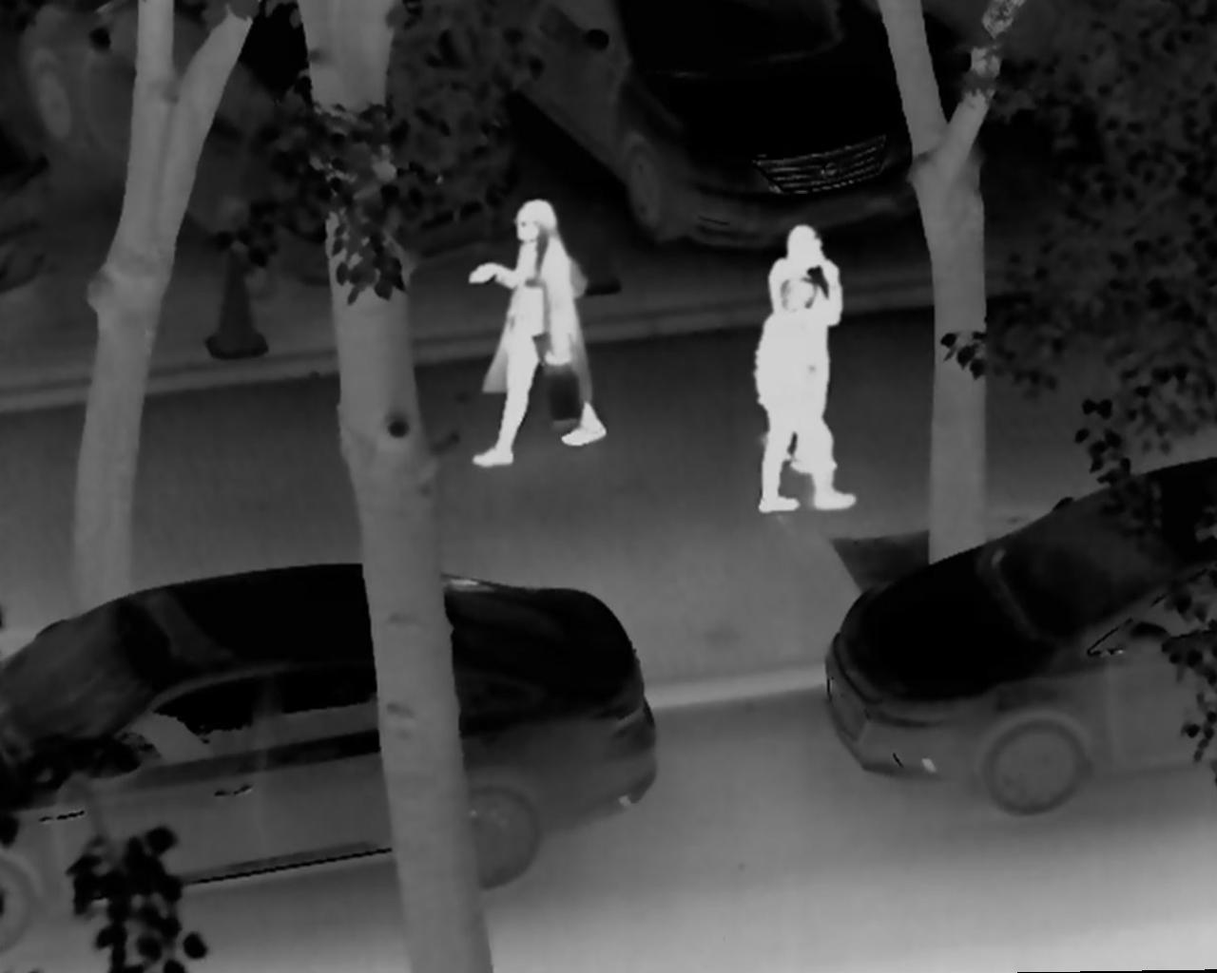person: (460, 196, 611, 467), (742, 277, 858, 513), (757, 221, 840, 480)
